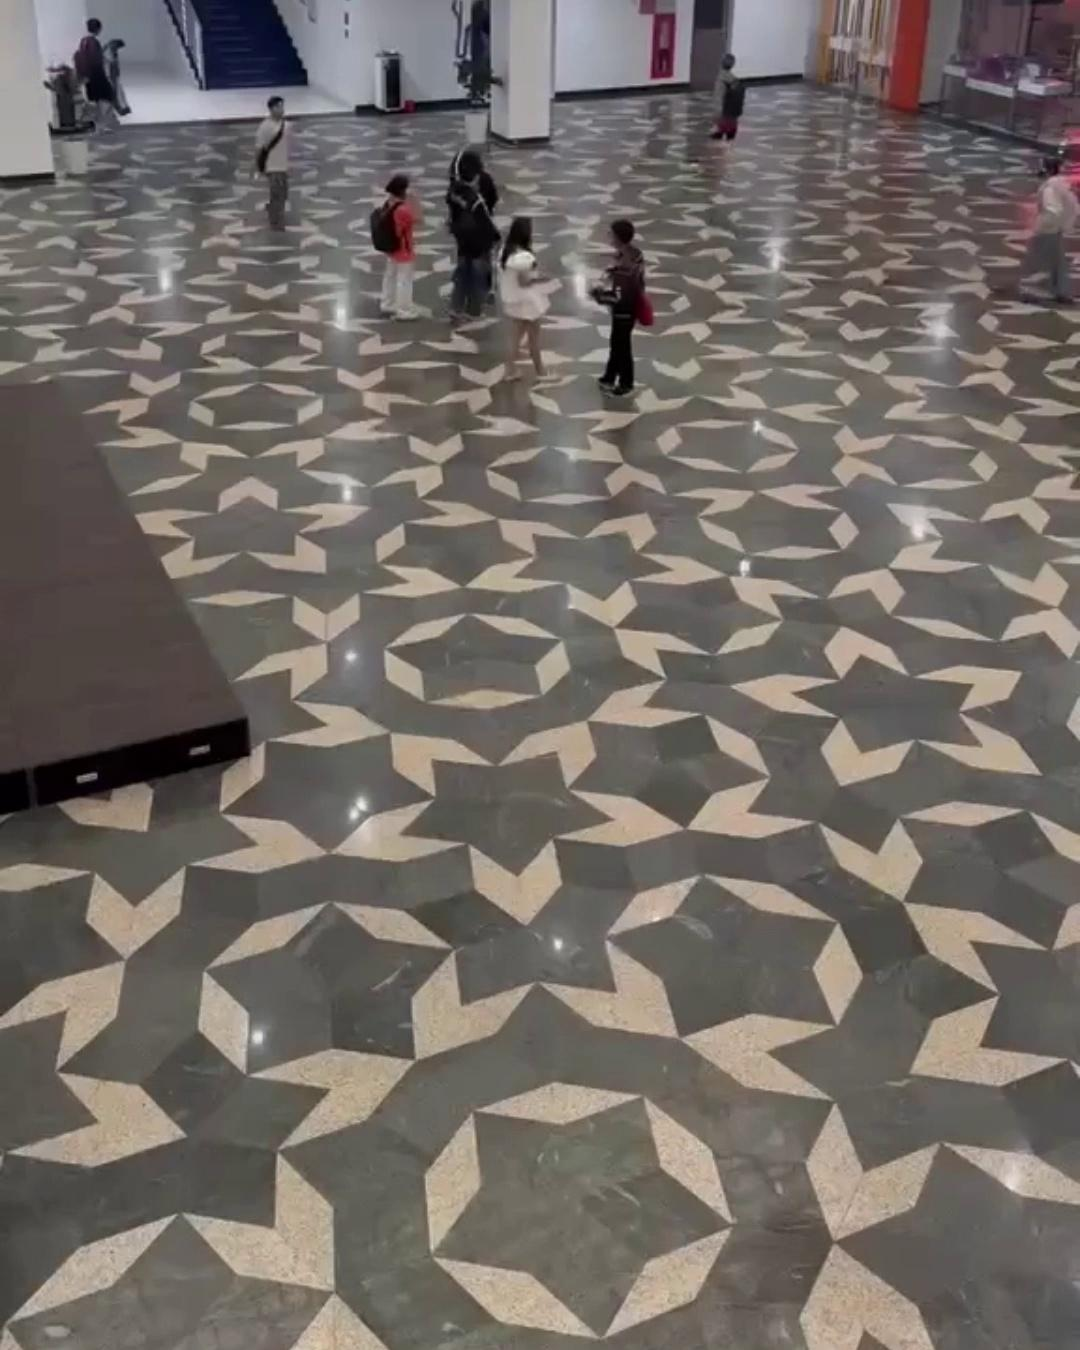your_class: (588, 218, 655, 400), (495, 217, 552, 381), (444, 154, 497, 324), (1024, 155, 1079, 304), (367, 176, 423, 321), (253, 95, 291, 233), (73, 17, 116, 131), (712, 51, 746, 165), (479, 170, 500, 223)
